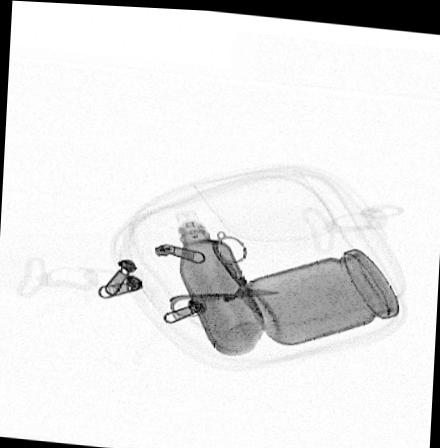Scissors: (168, 230, 285, 316)
